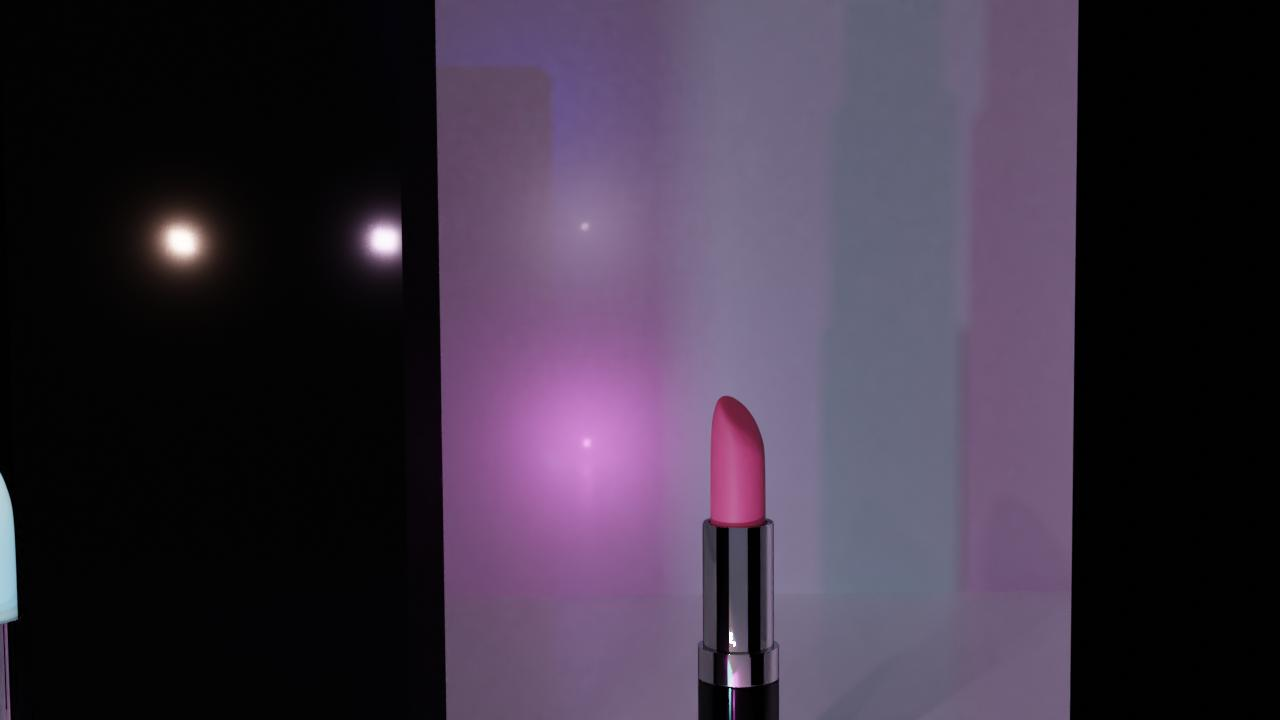CLASSIFIER_NAME: (697, 390, 781, 720), (0, 442, 52, 720)
